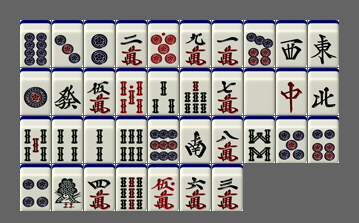0m: (148, 164, 179, 211)
0p: (148, 20, 179, 67)
0s: (116, 68, 147, 115)
1m: (212, 20, 243, 67)
1p: (20, 68, 51, 115)
1s: (52, 164, 83, 211)
1z: (308, 20, 339, 67)
2m: (116, 20, 147, 67)
2p: (84, 20, 115, 67)
2s: (84, 116, 115, 163)
2z: (180, 116, 211, 163)
3m: (212, 164, 243, 211)
3p: (52, 20, 83, 67)
3s: (148, 68, 179, 115)
3z: (276, 20, 307, 67)
4m: (84, 164, 115, 211)
4p: (20, 164, 51, 211)
4s: (52, 116, 83, 163)
4z: (308, 68, 339, 115)
5m: (84, 68, 115, 115)
5p: (276, 116, 307, 163)
5s: (20, 116, 51, 163)
5z: (244, 68, 275, 115)
6m: (180, 164, 211, 211)
6p: (308, 116, 339, 163)
6s: (116, 116, 147, 163)
6z: (52, 68, 83, 115)
7m: (212, 68, 243, 115)
7p: (244, 20, 275, 67)
7s: (180, 68, 211, 115)
7z: (276, 68, 307, 115)
8m: (212, 116, 243, 163)
8p: (20, 20, 51, 67)
8s: (244, 116, 275, 163)
9m: (180, 20, 211, 67)
9p: (148, 116, 179, 163)
9s: (116, 164, 147, 211)
